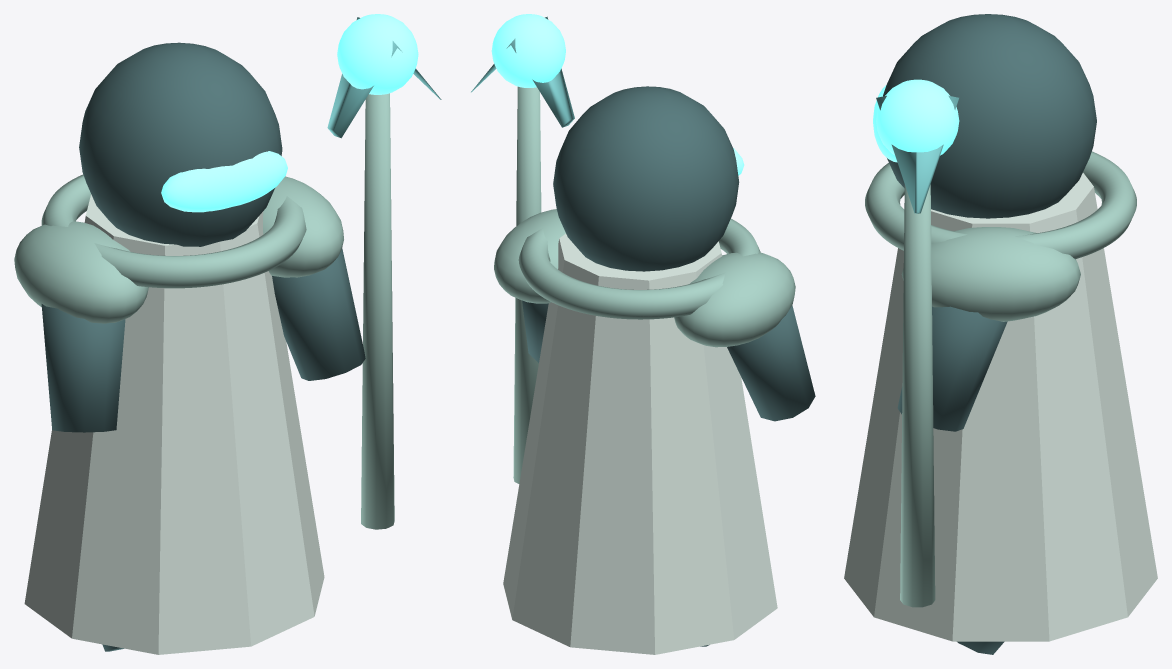
The model's file is warden.glb.
3 renders of one model, left to right at view 1: azimuth 30°, elevation 25°; view 2: azimuth 150°, elevation 25°; view 3: azimuth 270°, elevation 25°, orthographic. The views are drawn at different scales.
Parts seen in each view (by area): view 1: survey warden cloak, helmet, resonance staff, shoulder plate, halo collar, sleeve, sleeve.001, staff light, visor, shoulder plate.001, staff crescent; view 2: survey warden cloak, helmet, halo collar, shoulder plate, resonance staff, sleeve, staff light, shoulder plate.001, staff crescent, sleeve.001; view 3: survey warden cloak, helmet, resonance staff, shoulder plate.001, halo collar, sleeve.001, staff light, staff crescent.
Part boxes in pixels (x1=…): survey warden cloak: x1=24, y1=194, x2=324, y2=654; helmet: x1=79, y1=42, x2=282, y2=246; resonance staff: x1=361, y1=93, x2=394, y2=529; shoulder plate: x1=14, y1=221, x2=148, y2=323; halo collar: x1=41, y1=174, x2=306, y2=288; sleeve: x1=41, y1=304, x2=125, y2=432; sleeve.001: x1=272, y1=248, x2=365, y2=380; staff light: x1=337, y1=14, x2=418, y2=94; visor: x1=161, y1=151, x2=287, y2=212; shoulder plate.001: x1=263, y1=176, x2=343, y2=277; staff crescent: x1=327, y1=17, x2=441, y2=138; survey warden cloak: x1=503, y1=233, x2=777, y2=654; helmet: x1=553, y1=86, x2=739, y2=271; halo collar: x1=518, y1=218, x2=760, y2=319; shoulder plate: x1=674, y1=252, x2=795, y2=347; resonance staff: x1=513, y1=86, x2=541, y2=483; sleeve: x1=727, y1=305, x2=815, y2=421; staff light: x1=491, y1=14, x2=565, y2=87; shoulder plate.001: x1=494, y1=209, x2=565, y2=303; staff crescent: x1=471, y1=16, x2=574, y2=127; sleeve.001: x1=522, y1=300, x2=548, y2=362; survey warden cloak: x1=844, y1=173, x2=1157, y2=641; helmet: x1=883, y1=14, x2=1096, y2=218; resonance staff: x1=900, y1=184, x2=935, y2=607; shoulder plate.001: x1=901, y1=227, x2=1080, y2=321; halo collar: x1=865, y1=151, x2=1136, y2=259; sleeve.001: x1=897, y1=306, x2=1007, y2=431; staff light: x1=876, y1=79, x2=959, y2=155; staff crescent: x1=876, y1=95, x2=958, y2=213.
Bounding box in the file's own units: 1.39 × 2.14 × 0.98.
